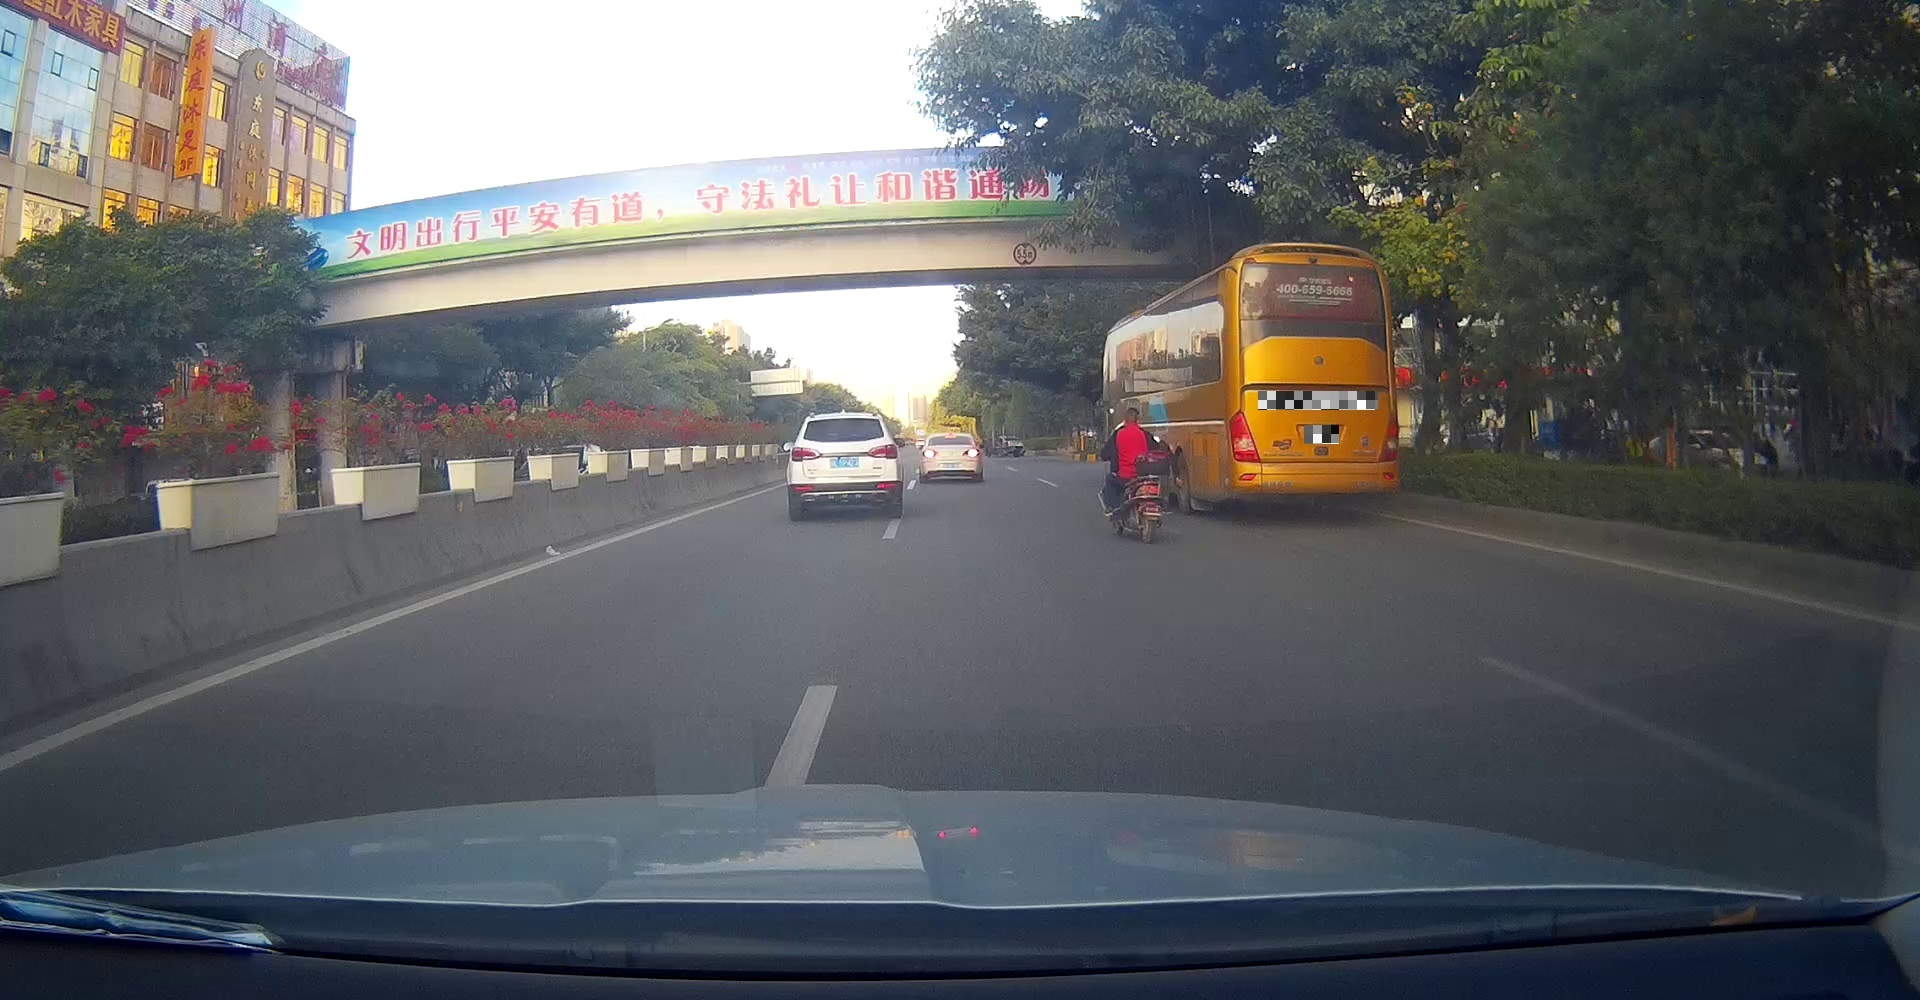L_light: (1227, 410, 1262, 463), (791, 445, 822, 462), (923, 449, 937, 458)
R_light: (1378, 411, 1398, 463), (869, 444, 898, 459), (964, 447, 980, 457)
T_light: (1300, 313, 1338, 319), (837, 418, 852, 421), (945, 435, 957, 438)
day-brake: (919, 431, 983, 481)
day-no: (1223, 241, 1399, 513), (786, 412, 903, 520)
plate_1: (1258, 391, 1378, 410)
plate_2: (1304, 425, 1338, 444)
